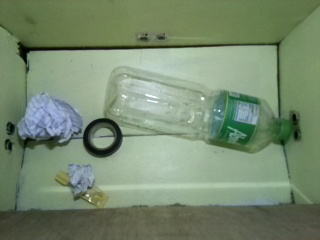bottle: (104, 64, 292, 154)
paper: (17, 91, 85, 146), (66, 162, 94, 199)
